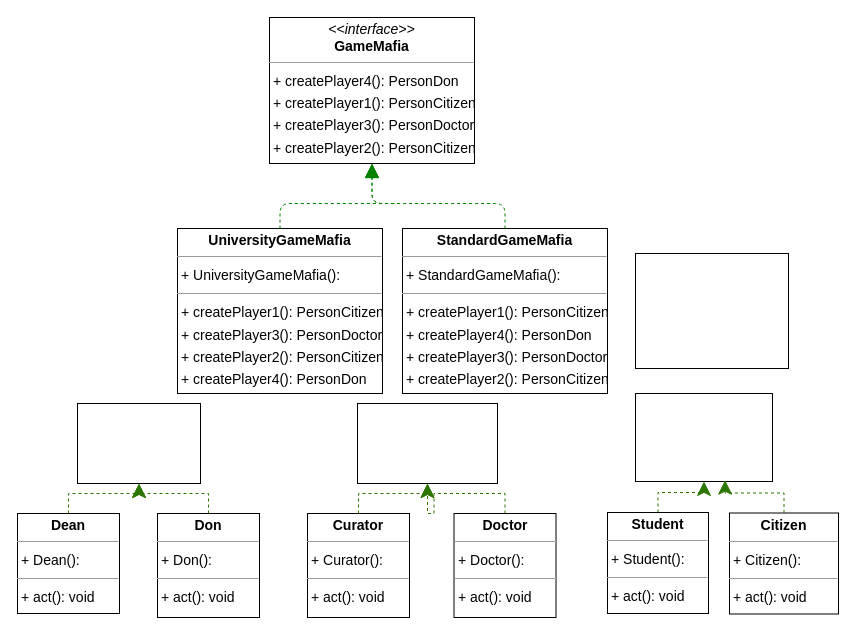
This 856x635 diagram has some shape labels left out. The centre of each missing label's shape, as x and y in pixels:
"<<interface>> PersonCitizen + act(): void" belongs at (703,437).
"<<interface>> PersonDoctor + act(): void" belongs at (427,443).
"<<interface>> PersonDon + act(): void" belongs at (138,443).
"Main + Main(): + main(String[]): void" belongs at (711,310).
